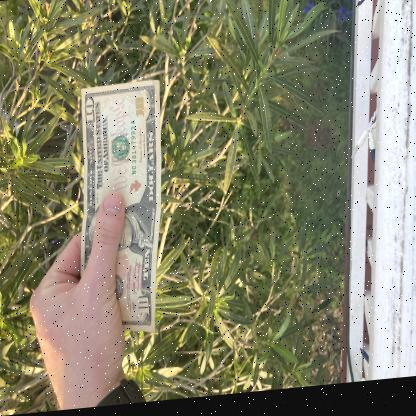ten-front: (81, 82, 161, 334)
